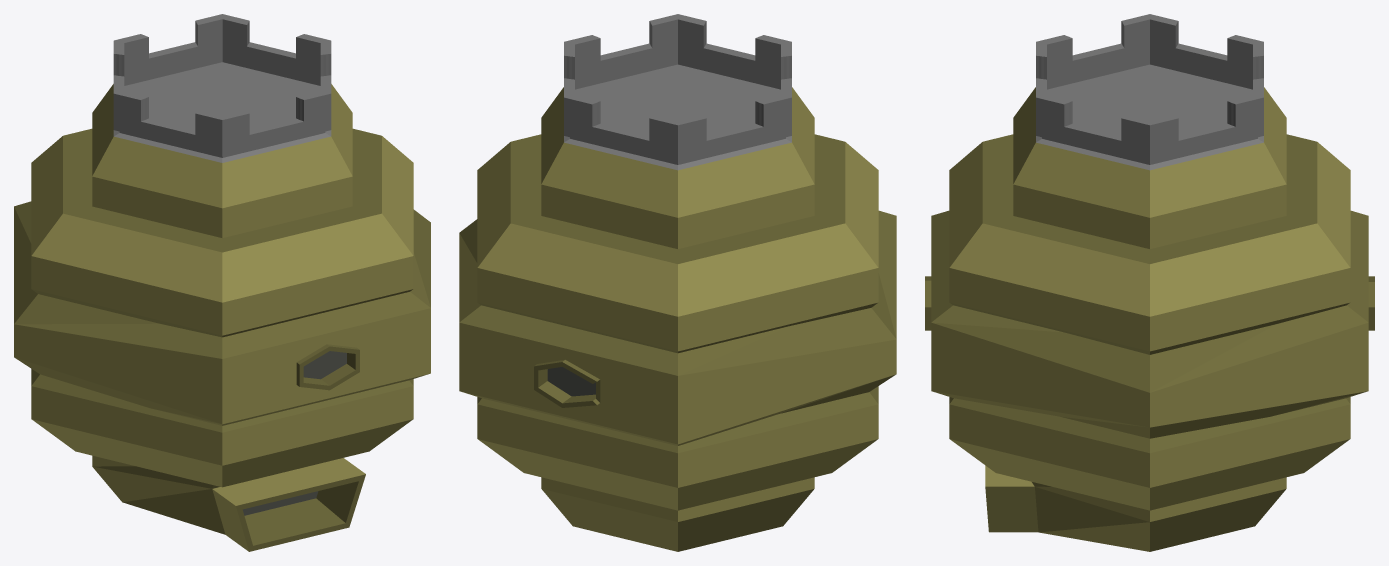
The model's file is base_lvl_2.fbx.
The picture shows the model from 3 angles, left to right: view 1: azimuth 30°, elevation 25°; view 2: azimuth 150°, elevation 25°; view 3: azimuth 270°, elevation 25°; orthographic projection. The views are drawn at different scales.
Visible parts, largest first — view 1: Beehive_lvl2; view 2: Beehive_lvl2; view 3: Beehive_lvl2.
Boxes of the visible parts, <box> form: Beehive_lvl2: <box>14,14,430,551</box>; Beehive_lvl2: <box>459,14,896,551</box>; Beehive_lvl2: <box>925,14,1374,551</box>.
Size of the model in its own units: 4.07 by 3.88 by 3.62.
